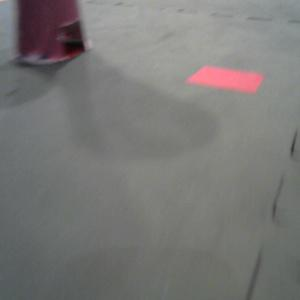middle: (13, 1, 93, 65)
